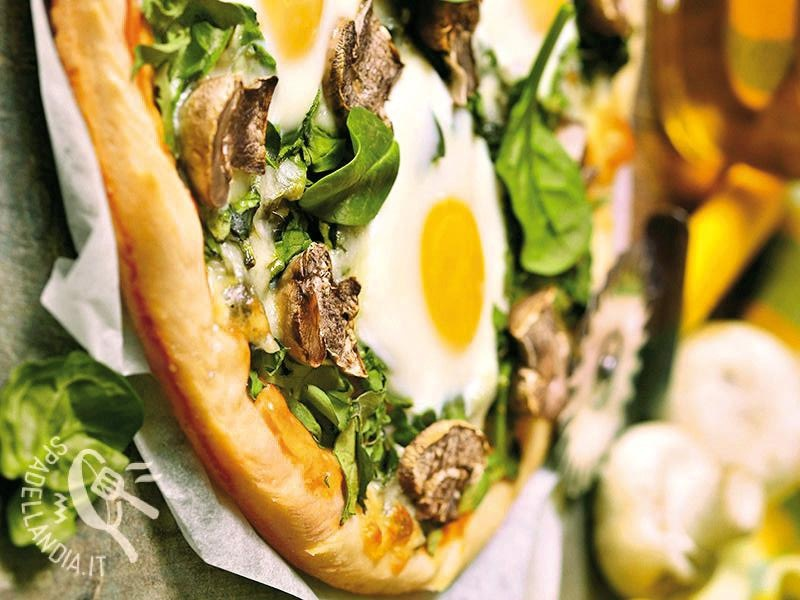oeuf: (400, 170, 493, 374)
